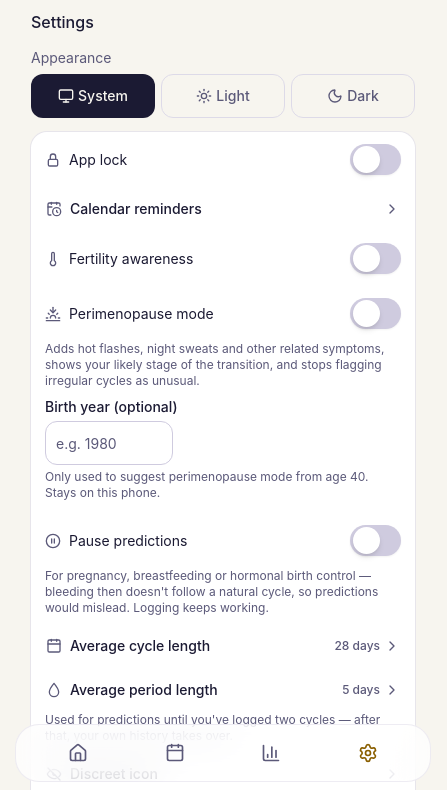
Scenario: PIN flows › turning the lock back on always sets a fresh PIN (never silently reuses a forgotten one)
Click the switch named "App lock" at coordinates (376, 160), box left=350, top=144, right=401, bottom=175
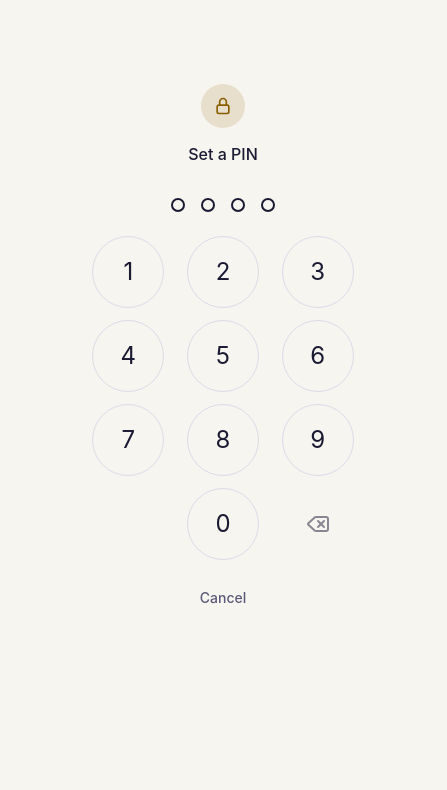
Now the heading "Set a PIN" is shown, box left=188, top=144, right=258, bottom=164
